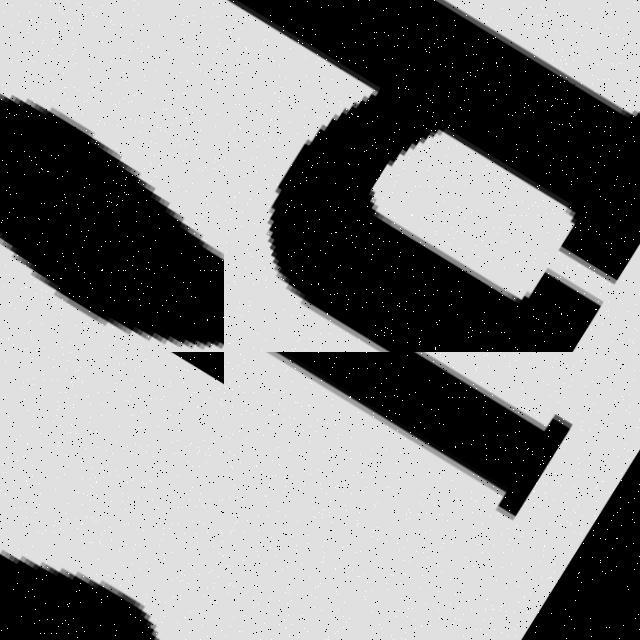H: (224, 0, 640, 352)
I: (0, 352, 224, 640)
L: (224, 352, 574, 536)
S: (0, 0, 224, 352)
